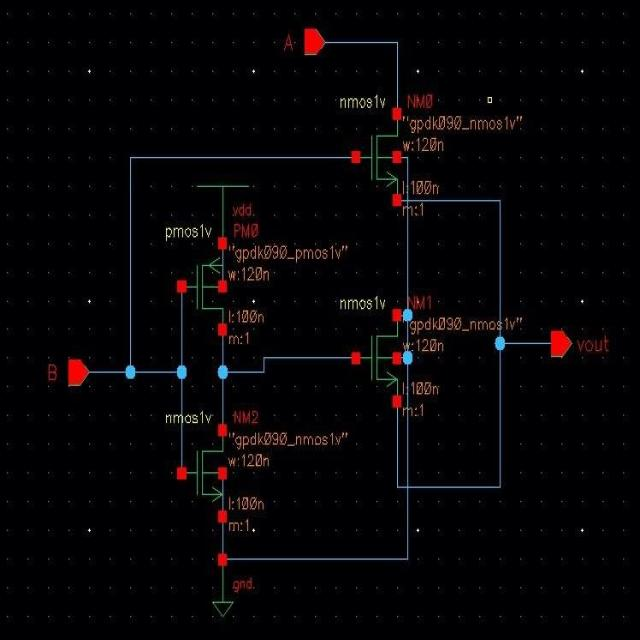nmos: (338, 93, 406, 210), (162, 410, 229, 526), (339, 293, 403, 411)
pmos: (162, 224, 229, 338)
